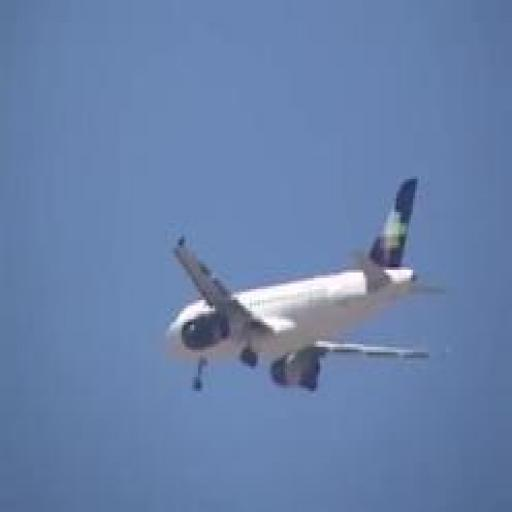aircraft: (164, 175, 447, 389)
